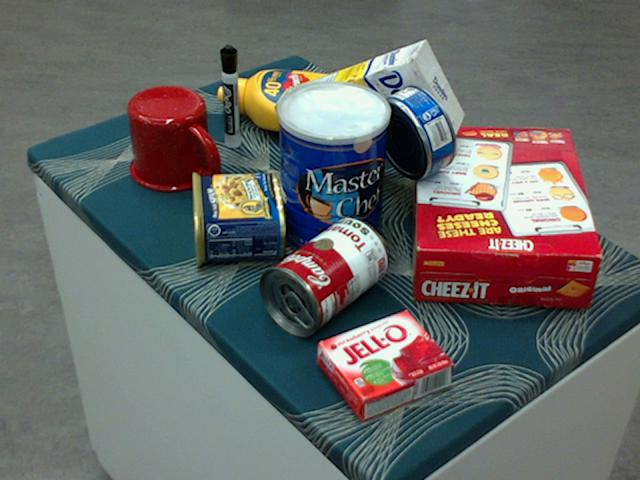cracker_box: (409, 124, 600, 307)
gelatin_box: (317, 309, 453, 419)
large_marker: (218, 44, 241, 148)
master_chef_can: (276, 82, 389, 263)
mug: (127, 85, 216, 192)
mustard_bottle: (216, 68, 384, 139)
potted_meat_can: (188, 171, 285, 266)
sugar_box: (270, 40, 463, 174)
tomato_soup_can: (256, 217, 388, 335)
tuna_fish_can: (374, 83, 456, 178)
